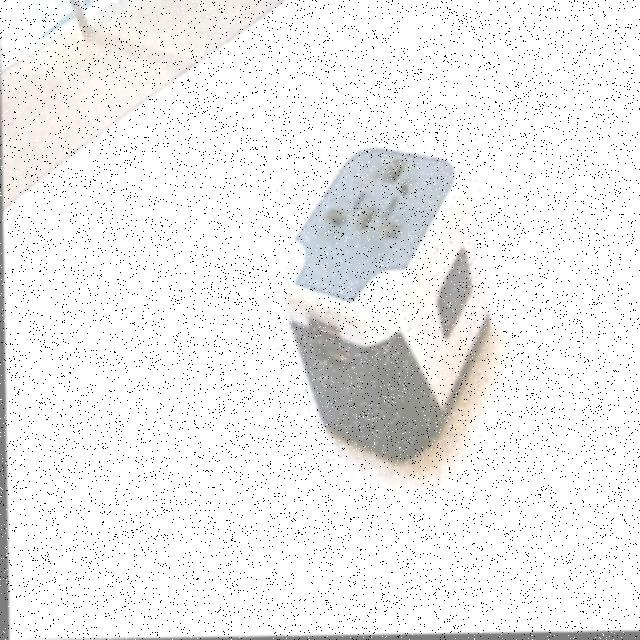adapter: (274, 137, 490, 464)
